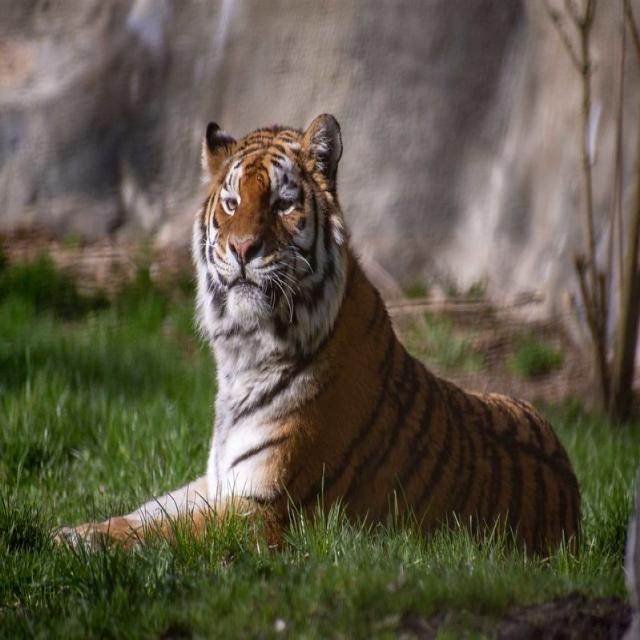Tiger: (42, 106, 583, 572)
